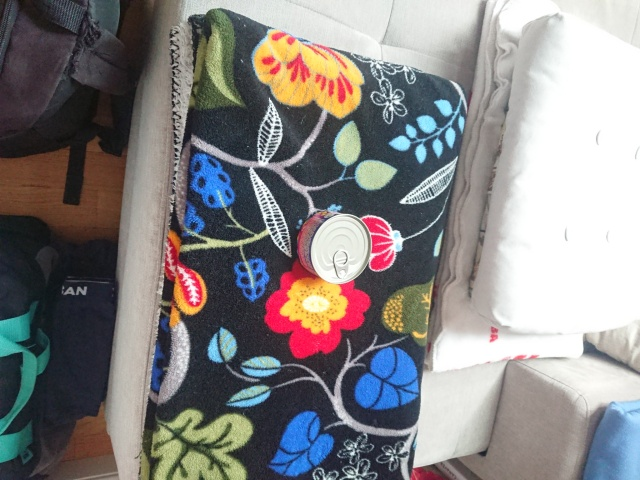Giana Tuna Salad Mexico 185g: (294, 209, 374, 287)
